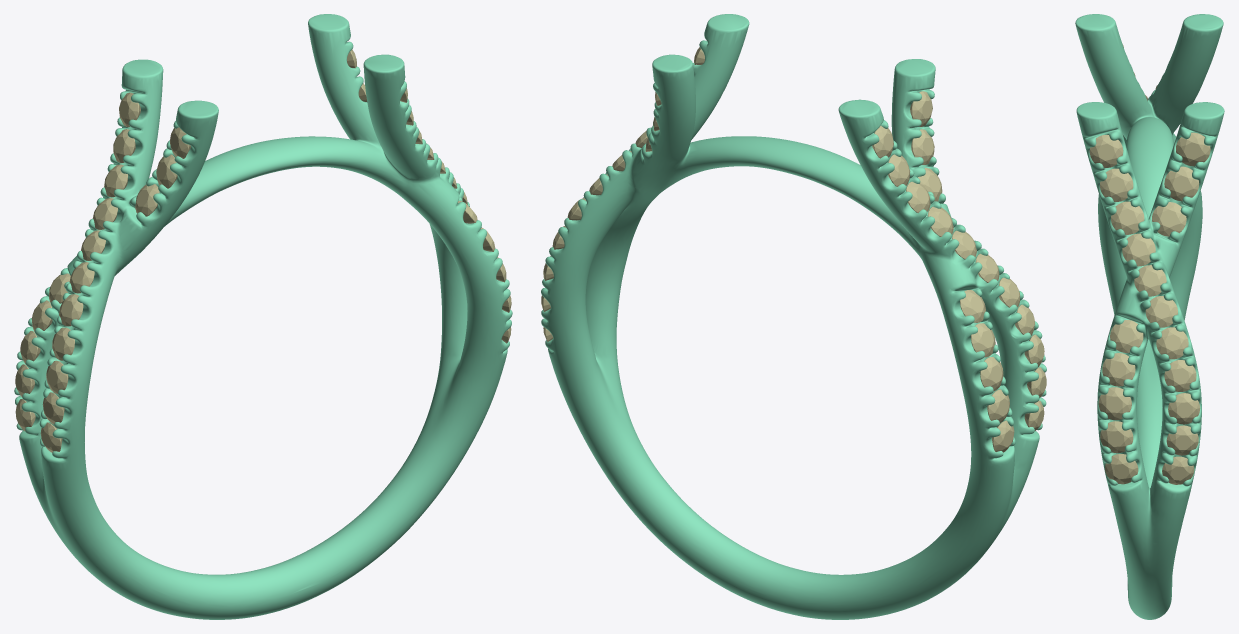
The picture shows the model from 3 angles, left to right: view 1: azimuth 30°, elevation 25°; view 2: azimuth 150°, elevation 25°; view 3: azimuth 270°, elevation 25°; orthographic projection. The views are drawn at different scales.
Parts seen in each view (by area): view 1: Metal02; view 2: Metal02; view 3: Metal02, Diamond_Gem.001, Diamond_Gem.002, Diamond_Gem, Diamond_Gem.004, Diamond_Gem.005, Diamond_Gem.003, Diamond_Gem.016, Diamond_Gem.015, Diamond_Gem.014, Diamond_Gem.006, Diamond_Gem.009 (+8 smaller).
Boxes of the visible parts, x1,y1,x2,y2 form: Metal02: [14, 14, 512, 619]; Metal02: [541, 14, 1046, 619]; Metal02: [1075, 14, 1224, 619]; Diamond_Gem.001: [1164, 166, 1199, 201]; Diamond_Gem.002: [1152, 202, 1186, 236]; Diamond_Gem: [1176, 132, 1210, 166]; Diamond_Gem.004: [1100, 168, 1133, 201]; Diamond_Gem.005: [1111, 201, 1144, 234]; Diamond_Gem.003: [1089, 134, 1123, 167]; Diamond_Gem.016: [1098, 387, 1131, 420]; Diamond_Gem.015: [1102, 353, 1135, 386]; Diamond_Gem.014: [1110, 320, 1143, 352]; Diamond_Gem.006: [1122, 233, 1155, 266]; Diamond_Gem.009: [1156, 327, 1188, 359].
Bounding box in the file's own units: 21.11 × 23.59 × 6.01.
